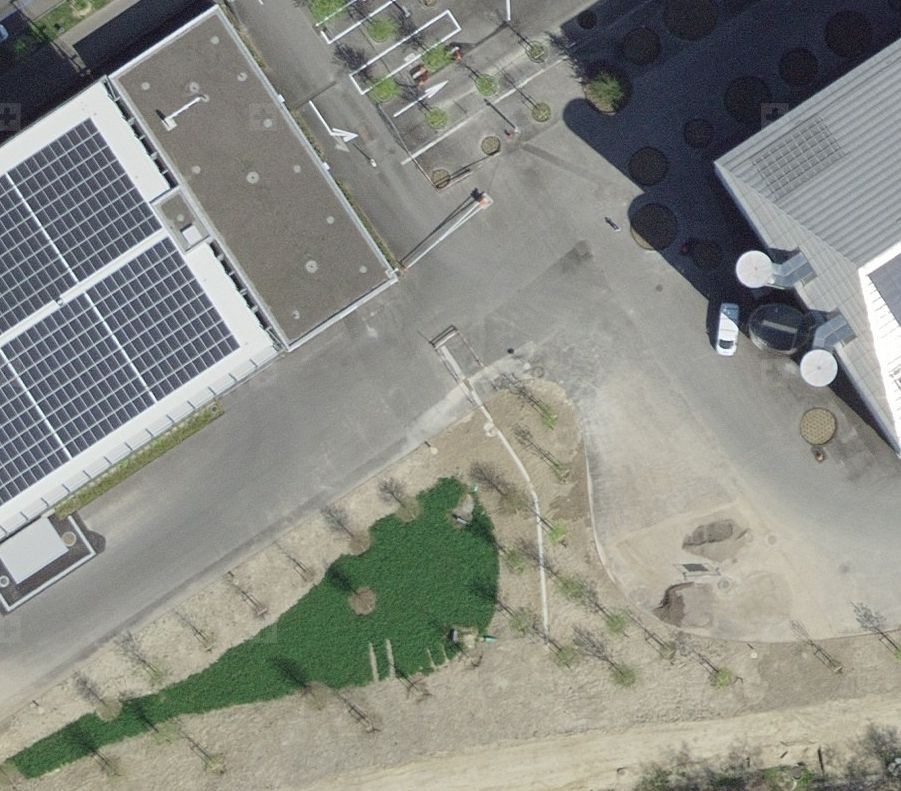solar: (1, 114, 243, 510)
